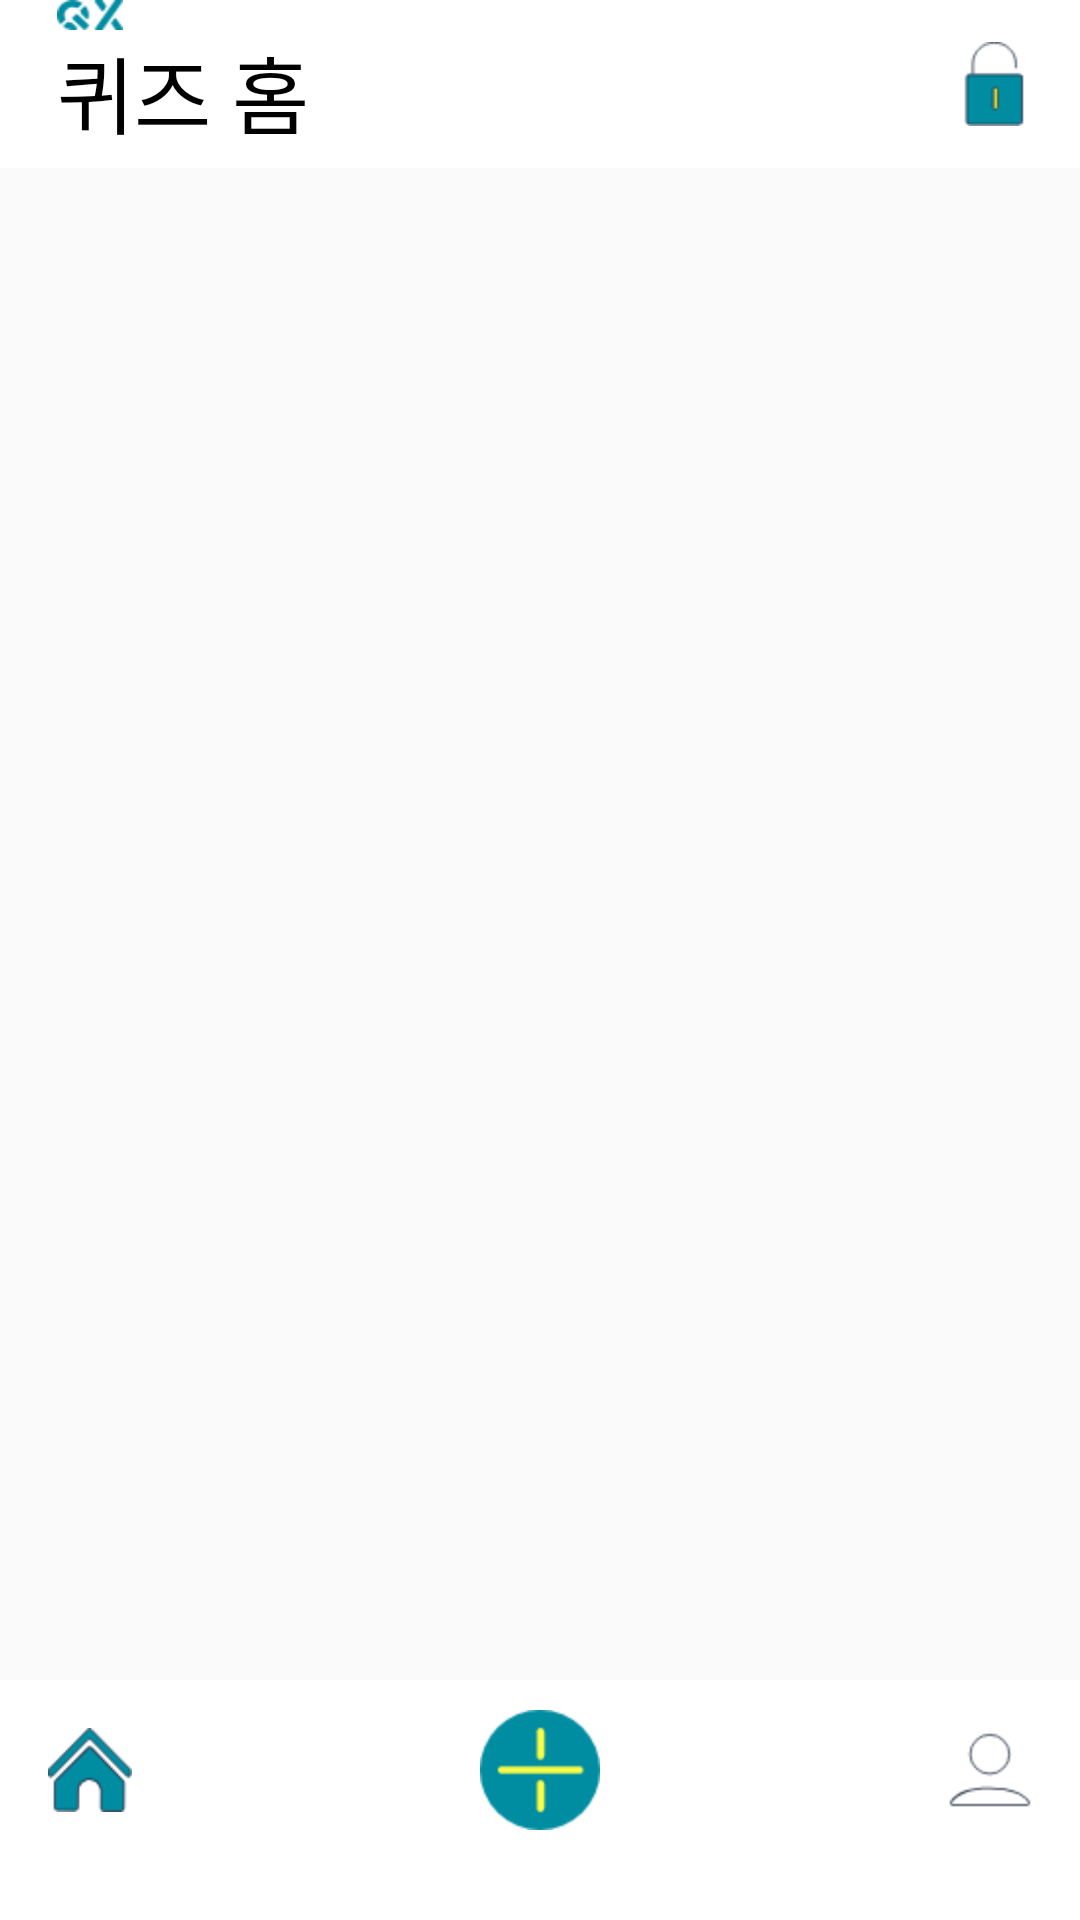

Point at icon controls on the screen. Image size 1080×1920, points as (x=x, y=y).
icc add: (x=540, y=1770)
icc home on: (x=90, y=1770)
icc lock: (x=994, y=84)
icc prf off: (x=990, y=1770)
